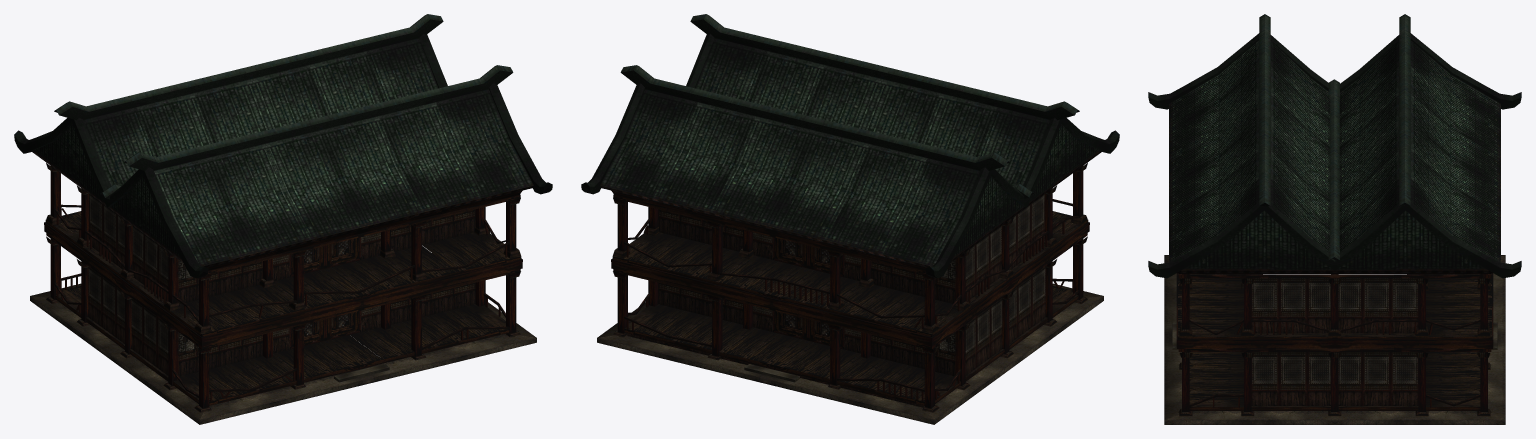
File: c1-033-guesthouse-01_01.glb
The picture shows the model from 3 angles, left to right: view 1: azimuth 30°, elevation 25°; view 2: azimuth 150°, elevation 25°; view 3: azimuth 270°, elevation 25°; orthographic projection.
Visible parts, largest first — view 1: c1-033-guesthouse-01; view 2: c1-033-guesthouse-01; view 3: c1-033-guesthouse-01.
Part boxes in pixels (<box>): c1-033-guesthouse-01: <box>14,14,552,424</box>; c1-033-guesthouse-01: <box>581,14,1119,424</box>; c1-033-guesthouse-01: <box>1148,14,1521,424</box>.
Size of the model in its own units: 21.33 by 12.64 by 17.86.
2 materials, 2 textured.
